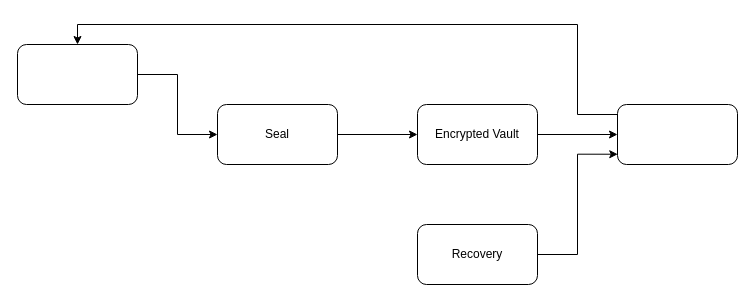
Image size: 755x302. Some labels were removed from this diagram. Each missing label, with the centre of its shape:
Accessible Vault: pixel 77 74
Unlock: pixel 677 134
